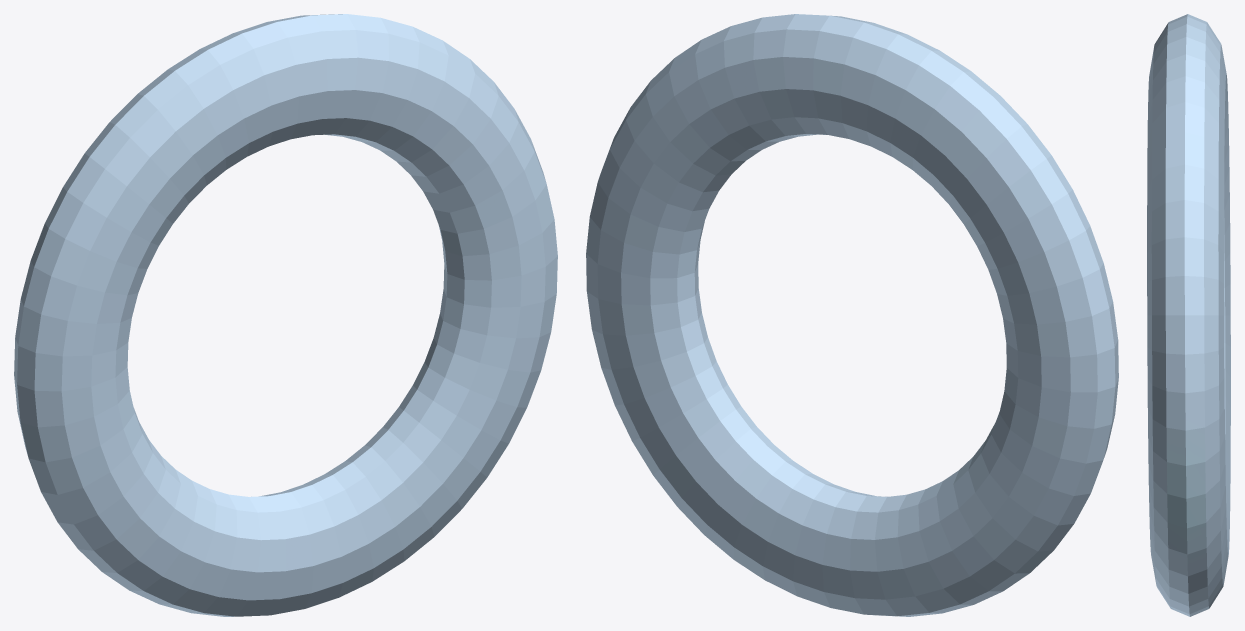
The model's file is torus_for_heart.glb.
3 views of the same model, side by side, from view 1: azimuth 30°, elevation 25°; view 2: azimuth 150°, elevation 25°; view 3: azimuth 270°, elevation 25° (orthographic). The views are drawn at different scales.
Parts seen in each view (by area): view 1: Torus; view 2: Torus; view 3: Torus.
Part boxes in pixels (<box>): Torus: <box>14,14,557,616</box>; Torus: <box>586,14,1118,616</box>; Torus: <box>1147,14,1230,616</box>.
Bounding box in the file's own units: 7.25 × 7.7 × 1.07.
Materials: 1 (1 with a texture image).
